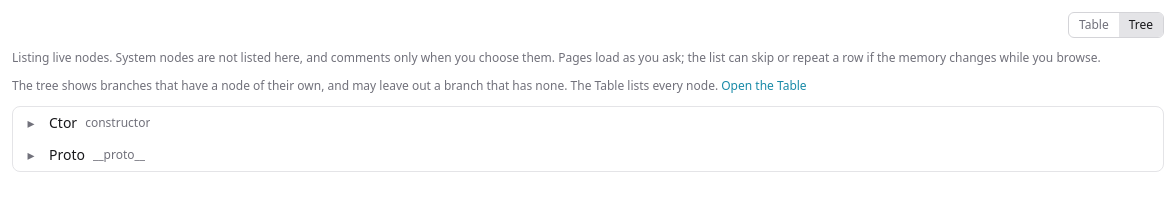
Tree › a loc that names an Object.prototype member opens like any other and does not wedge the Tree
Click the button named "Expand". click: point(31, 123)
box: [21,113,41,133]
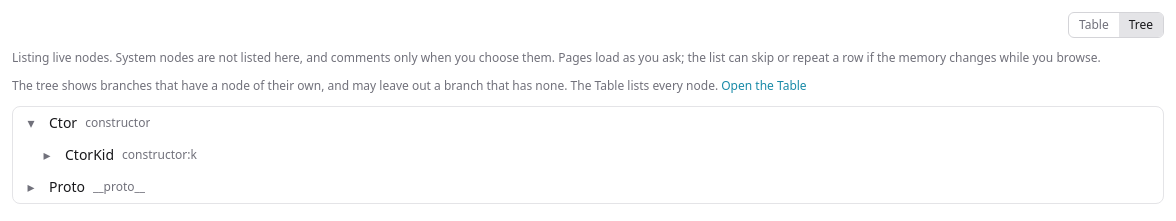
Expected: the text "Proto" is shown, [49,177,85,197]
Expected: the text "CtorKid" is shown, [65,145,114,165]
